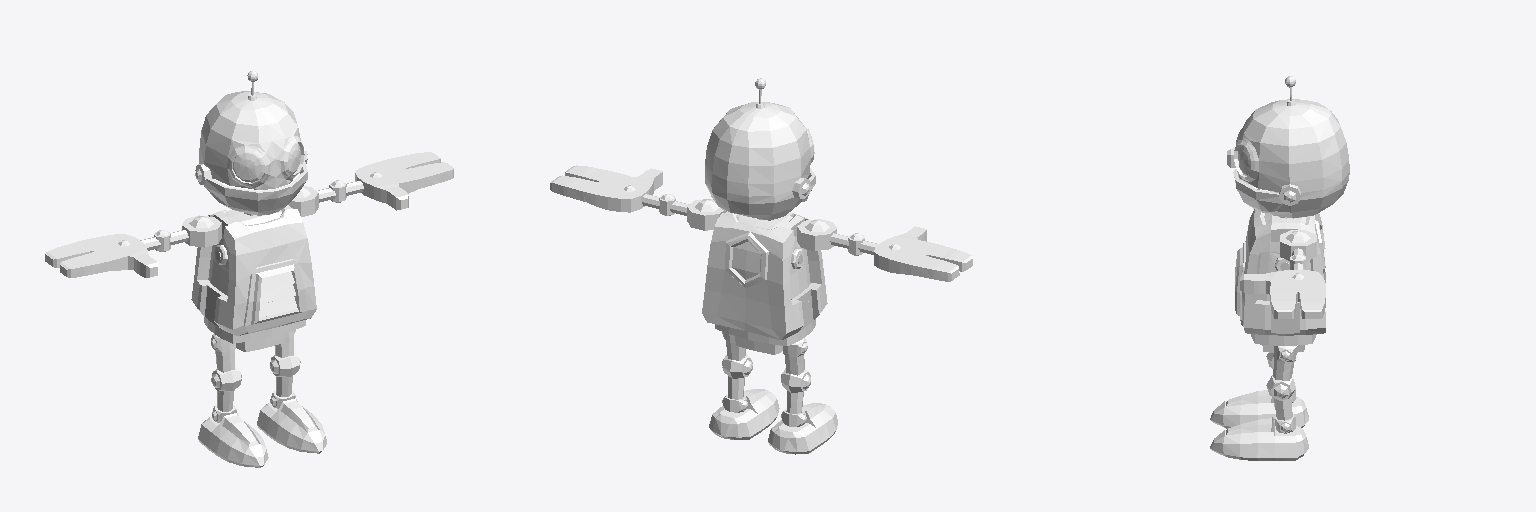
The model's file is intero.obj.
The picture shows the model from 3 angles: view 1: azimuth 30°, elevation 25°; view 2: azimuth 150°, elevation 25°; view 3: azimuth 270°, elevation 25°; orthographic projection.
Parts seen in each view (by area): view 1: Object.12, Object.14, Object.1, Object.15, Object.20, Object.9, Object.18, Object.13, Object.6, Object.11; view 2: Object.14, Object.11, Object.1, Object.15, Object.12, Object.9, Object.20, Object.18, Object.6, Object.13; view 3: Object.14, Object.12, Object.15, Object.9, Object.20, Object.6, Object.11, Object.13.
Part boxes in pixels (x1,y1,x2,y2): Object.12: (205, 205, 316, 335); Object.14: (195, 71, 307, 215); Object.1: (45, 215, 221, 277); Object.15: (288, 152, 453, 216); Object.20: (198, 413, 268, 467); Object.9: (257, 398, 326, 453); Object.18: (211, 334, 241, 422); Object.13: (204, 317, 305, 351); Object.6: (270, 330, 299, 408); Object.11: (191, 208, 231, 316); Object.14: (705, 78, 815, 220); Object.11: (702, 213, 803, 339); Object.1: (797, 219, 972, 281); Object.15: (550, 165, 726, 230); Object.12: (726, 211, 827, 330); Object.9: (709, 389, 779, 439); Object.20: (768, 403, 837, 454); Object.18: (781, 338, 810, 426); Object.6: (722, 332, 752, 412); Object.13: (715, 319, 815, 354); Object.14: (1233, 76, 1349, 218); Object.12: (1235, 209, 1299, 335); Object.15: (1240, 230, 1325, 318); Object.9: (1210, 417, 1308, 460); Object.20: (1210, 390, 1308, 428); Object.6: (1266, 345, 1297, 433); Object.11: (1300, 213, 1325, 334); Object.13: (1251, 334, 1316, 352).
Bounding box in the file's own units: 185 × 162 × 56.69.